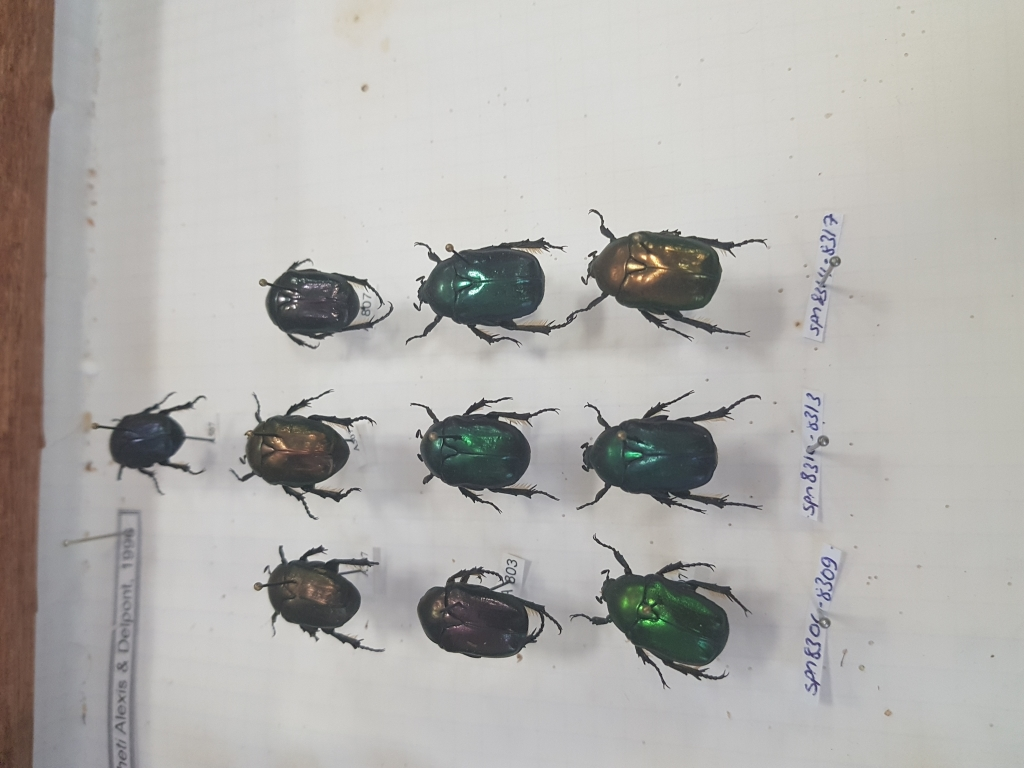Protaetia_besucheti: (563, 523, 755, 700), (568, 199, 773, 343), (566, 383, 771, 521), (232, 380, 386, 525), (401, 390, 568, 513)
